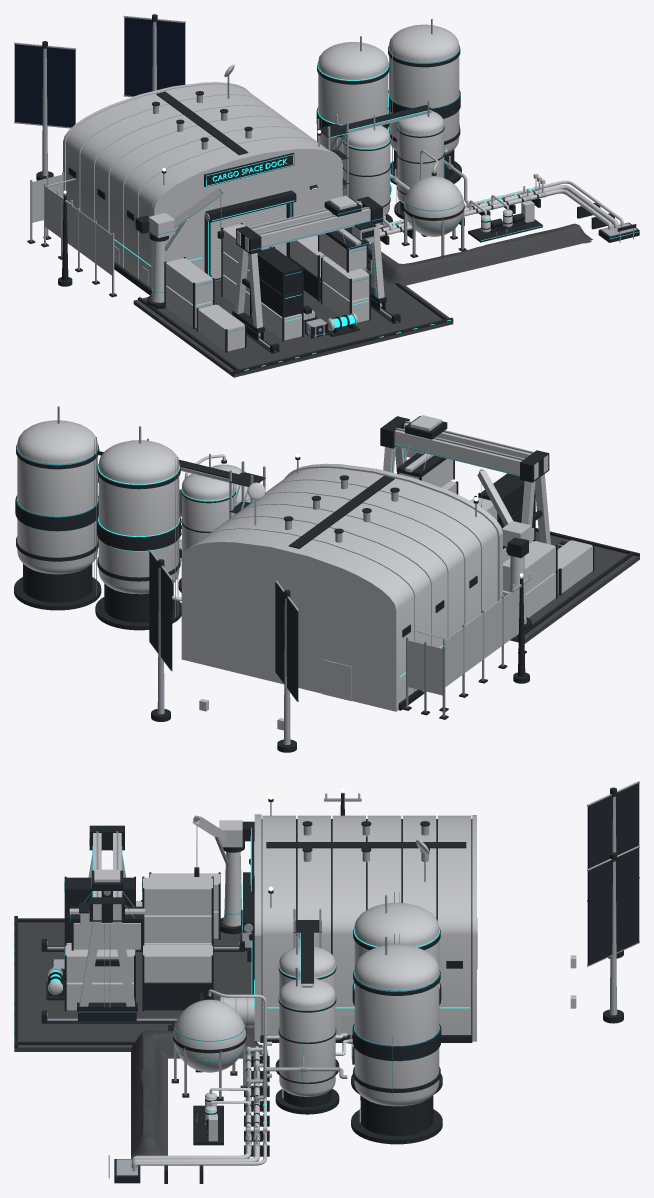
The model's file is dock_tankfarm_game.glb.
3 renders of one model, top to bottom at view 1: azimuth 30°, elevation 25°; view 2: azimuth 150°, elevation 25°; view 3: azimuth 270°, elevation 25°, orthographic. The views are drawn at different scales.
Visible parts, largest first — view 1: Base_Paint, Tier_20, Crane_Gantry, Base_Metal, Tier_12, Tier_03, Tier_05, Tier_08, Base_GlowCyan, Dock_Door; view 2: Base_Paint, Tier_20, Crane_Gantry, Base_Metal, Tier_08, Tier_03, Tier_12; view 3: Base_Paint, Tier_20, Crane_Gantry, Tier_05, Tier_03, Tier_12, Base_Metal, Tier_08, Base_GlowCyan.
Boxes of the visible parts, bbox=[...] form: Base_Paint: bbox=[14, 14, 639, 377]; Tier_20: bbox=[27, 19, 469, 352]; Crane_Gantry: bbox=[232, 195, 386, 340]; Base_Metal: bbox=[14, 15, 637, 352]; Tier_12: bbox=[401, 150, 466, 257]; Tier_03: bbox=[221, 223, 370, 302]; Tier_05: bbox=[394, 101, 444, 219]; Tier_08: bbox=[135, 188, 223, 308]; Base_GlowCyan: bbox=[114, 63, 639, 370]; Dock_Door: bbox=[210, 204, 286, 280]; Base_Paint: bbox=[95, 440, 639, 752]; Tier_20: bbox=[14, 406, 594, 719]; Crane_Gantry: bbox=[380, 415, 550, 544]; Base_Metal: bbox=[98, 426, 531, 744]; Tier_08: bbox=[477, 469, 531, 630]; Tier_03: bbox=[441, 473, 535, 525]; Tier_12: bbox=[184, 454, 254, 513]; Base_Paint: bbox=[14, 783, 639, 1183]; Tier_20: bbox=[136, 872, 442, 1144]; Crane_Gantry: bbox=[69, 825, 144, 1020]; Tier_05: bbox=[246, 967, 339, 1114]; Tier_03: bbox=[64, 876, 213, 983]; Tier_12: bbox=[171, 989, 266, 1100]; Base_Metal: bbox=[47, 781, 639, 1178]; Tier_08: bbox=[192, 815, 254, 934]; Base_GlowCyan: bbox=[14, 827, 469, 1142].
Bounding box in the file's own units: 57.66 × 18.12 × 53.19.
